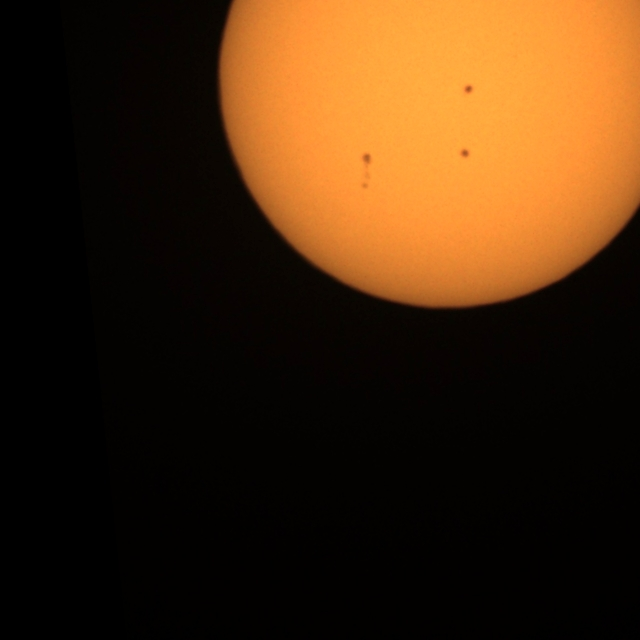sunspot: (358, 150, 375, 193), (360, 151, 374, 168), (458, 147, 471, 160), (462, 83, 474, 95), (360, 180, 370, 191)
